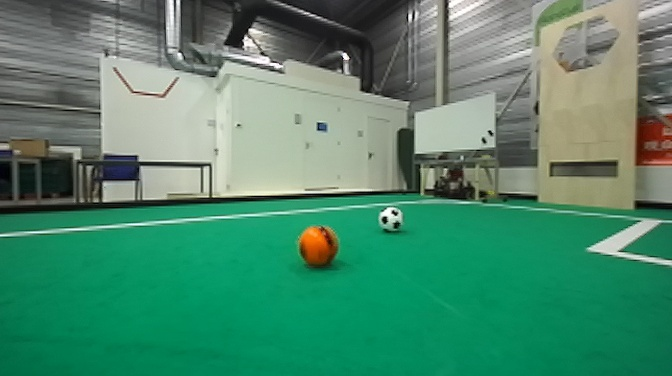ball: (296, 222, 340, 272), (375, 205, 406, 235)
